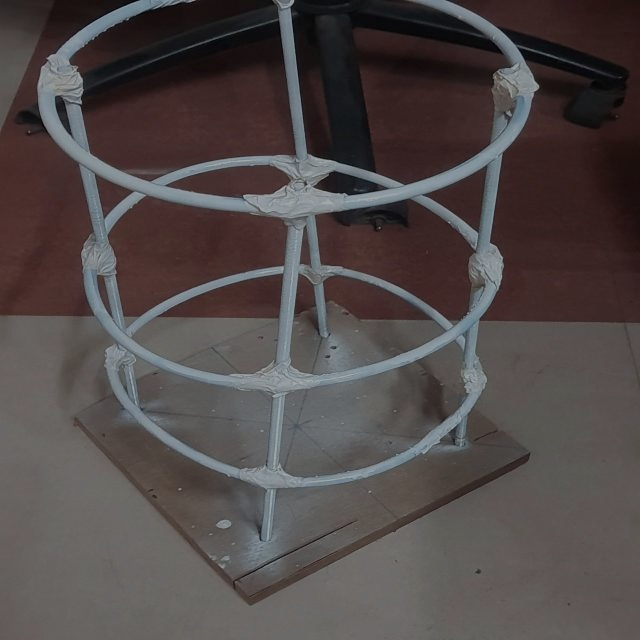silo: (12, 0, 530, 604)
